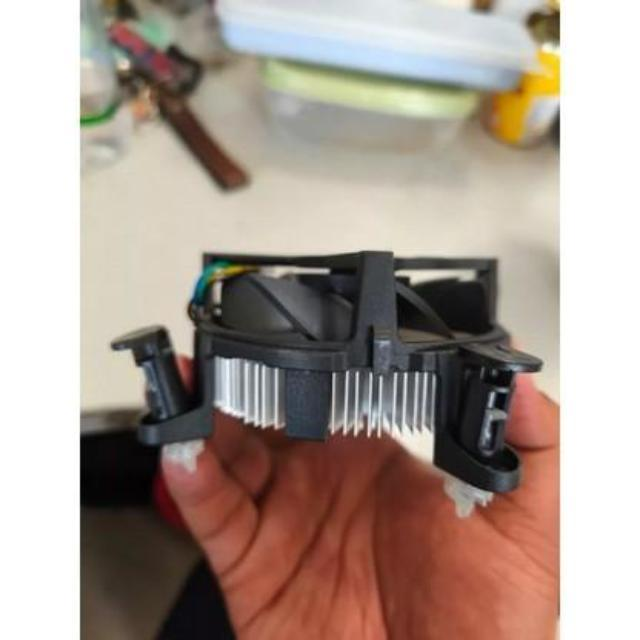CPU_Fan: (148, 246, 546, 497)
